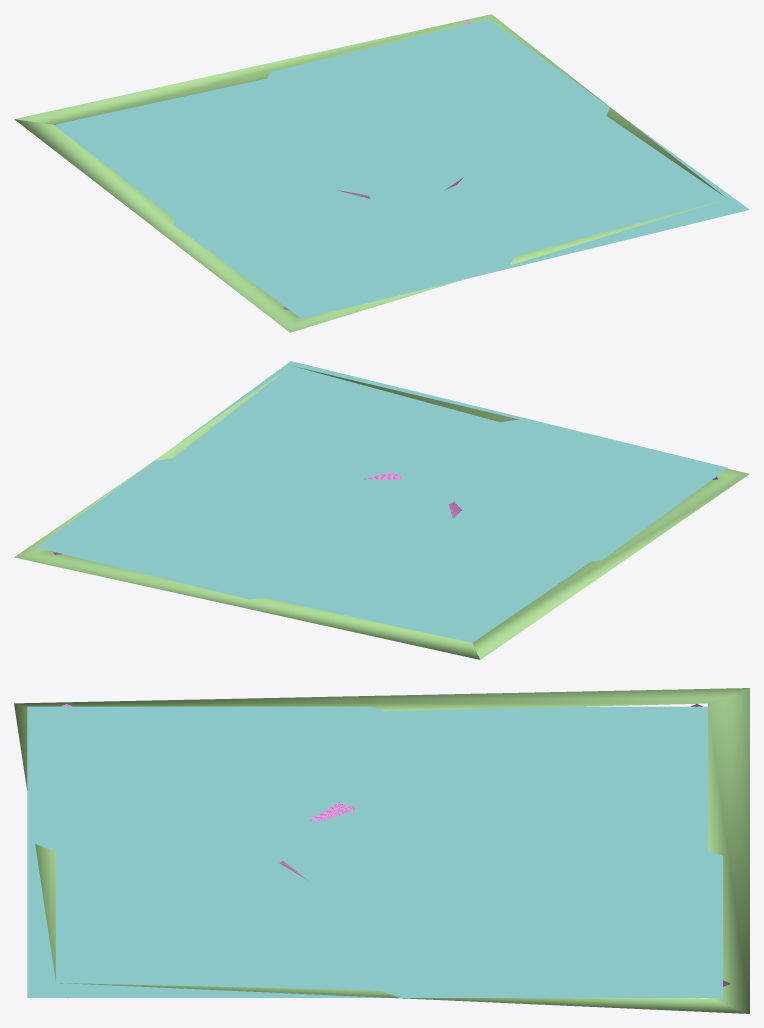
File: sub_Ironplatefloor_LOD2.fbx
3 renders of one model, top to bottom at view 1: azimuth 30°, elevation 25°; view 2: azimuth 150°, elevation 25°; view 3: azimuth 270°, elevation 25°, orthographic. The views are drawn at different scales.
Parts seen in each view (by area): view 1: sub_Ironplatefloor_LOD2; view 2: sub_Ironplatefloor_LOD2; view 3: sub_Ironplatefloor_LOD2.
Part boxes in pixels (x1,y1,x2,y2): sub_Ironplatefloor_LOD2: (14, 14, 749, 332); sub_Ironplatefloor_LOD2: (14, 361, 749, 659); sub_Ironplatefloor_LOD2: (14, 688, 749, 1013).
Bounding box in the file's own units: 8.26 × 0.2207 × 8.27.
